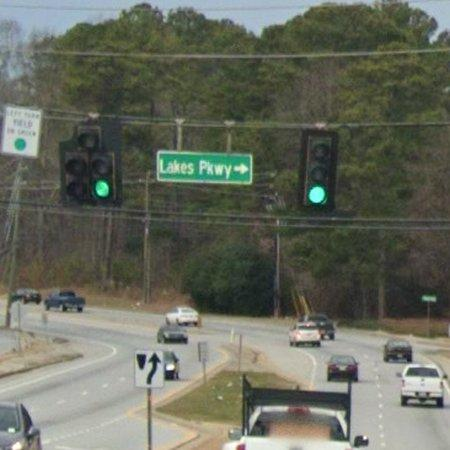traffic lights: (302, 129, 339, 211)
